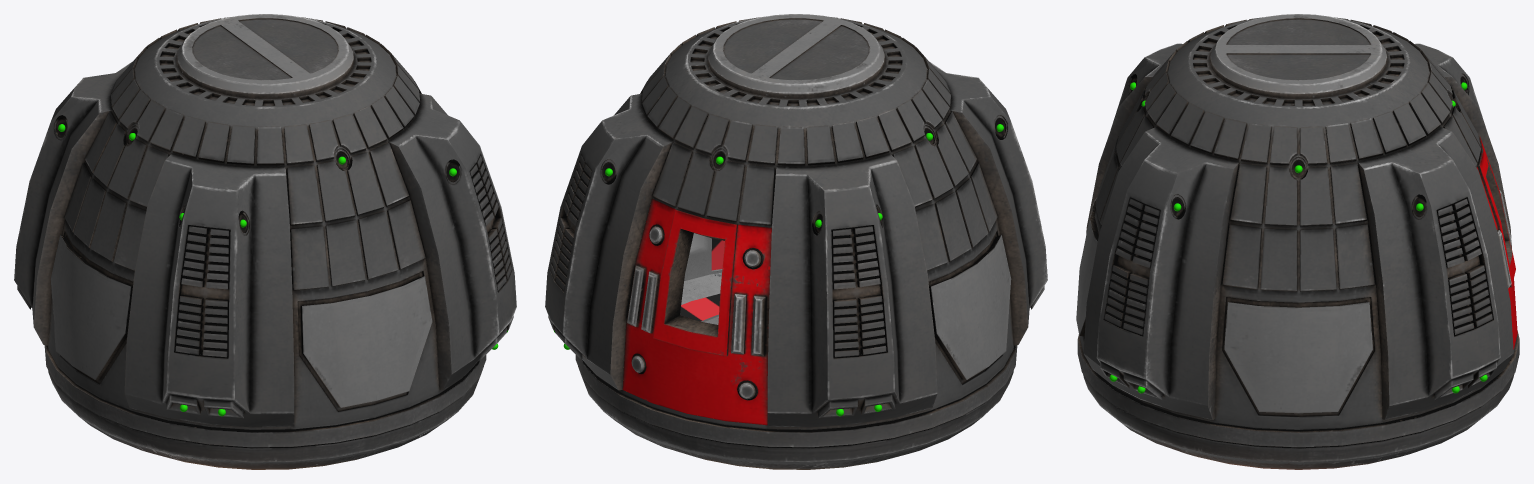
The model's file is drop_pod.glb.
3 renders of one model, left to right at view 1: azimuth 30°, elevation 25°; view 2: azimuth 150°, elevation 25°; view 3: azimuth 270°, elevation 25°, orthographic.
Visible parts, largest first — view 1: drooPod-col; view 2: drooPod-col, dropPodDoor-col; view 3: drooPod-col, dropPodDoor-col.
Boxes of the visible parts, x1,y1,x2,y2 form: drooPod-col: (14,14,516,469); drooPod-col: (545,14,1047,469); dropPodDoor-col: (622,198,771,425); drooPod-col: (1076,14,1519,469); dropPodDoor-col: (1476,136,1517,349).
Bounding box in the file's own units: 7.8 × 7.17 × 7.78.
5 materials, 3 textured.
